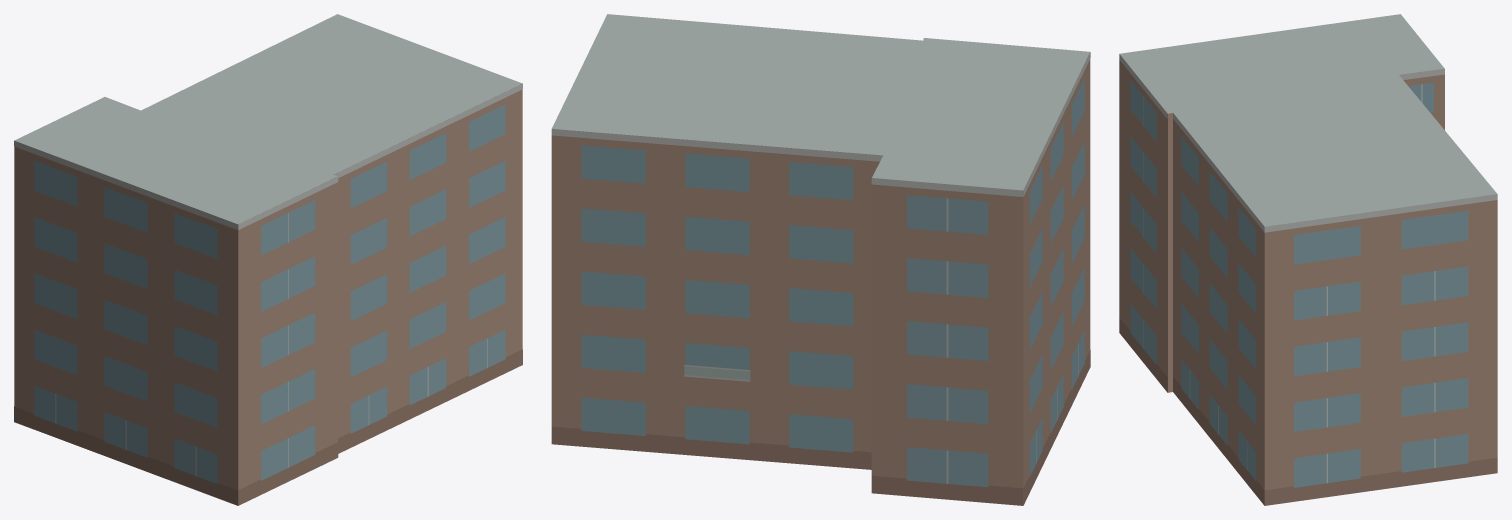
Rendered from survey-upis-32602574.glb.
3 renders of one model, left to right at view 1: azimuth 30°, elevation 25°; view 2: azimuth 150°, elevation 25°; view 3: azimuth 270°, elevation 25°, orthographic. The views are drawn at different scales.
Visible parts, largest first — view 1: survey-upis-32602574.tmp; view 2: survey-upis-32602574.tmp; view 3: survey-upis-32602574.tmp.
Part boxes in pixels (x1,y1,x2,y2): survey-upis-32602574.tmp: (14, 14, 522, 505); survey-upis-32602574.tmp: (551, 14, 1090, 505); survey-upis-32602574.tmp: (1119, 14, 1497, 505).
Size of the model in its own units: 19.23 by 11.75 by 14.44.
